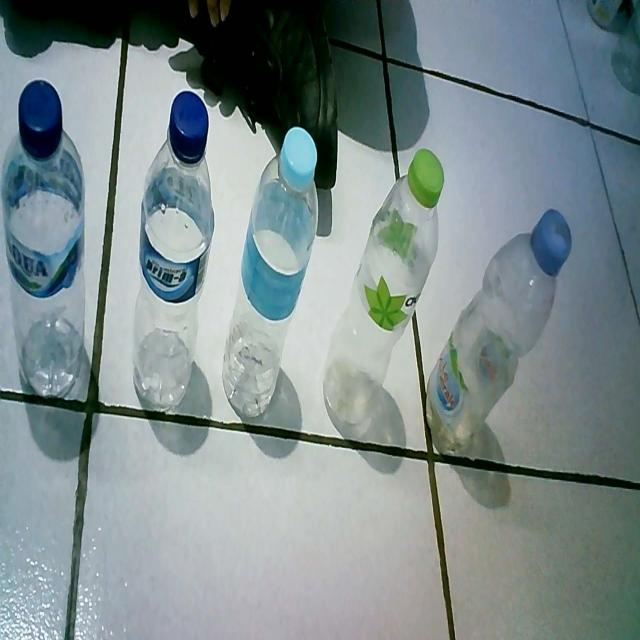botol: (425, 208, 576, 483), (325, 135, 447, 456), (1, 69, 93, 420), (223, 124, 320, 436), (132, 74, 218, 419)
